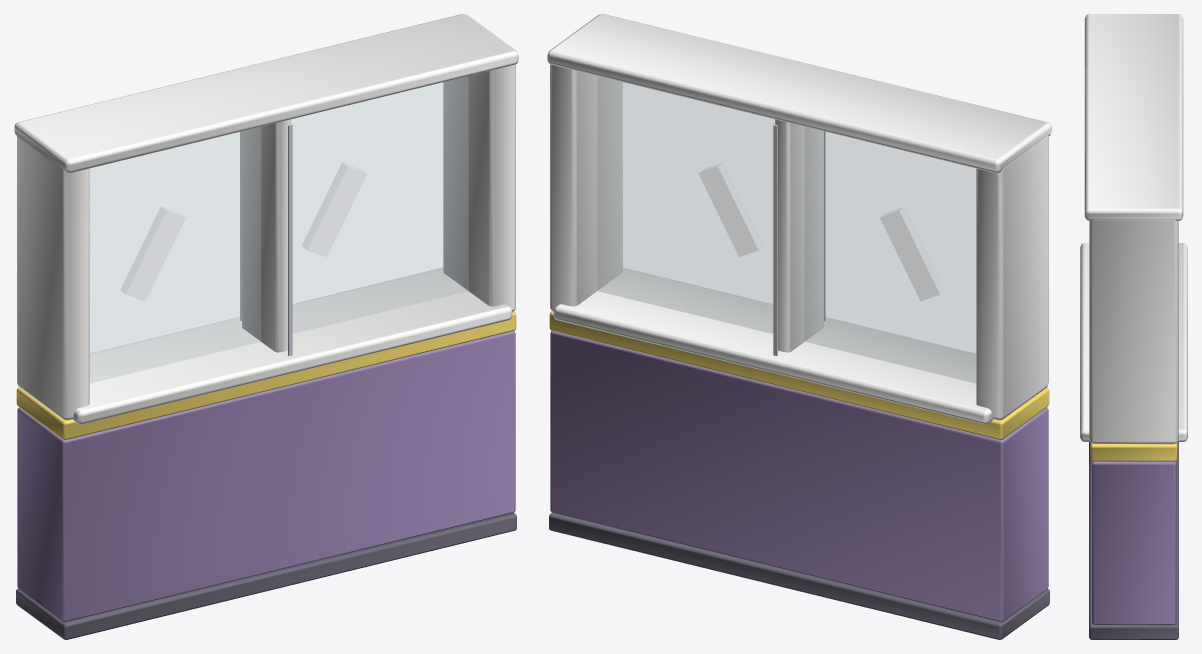
File: pared_ventana.glb
3 views of the same model, side by side, from view 1: azimuth 30°, elevation 25°; view 2: azimuth 150°, elevation 25°; view 3: azimuth 270°, elevation 25° (orthographic). The views are drawn at different scales.
Visible parts, largest first — view 1: bajo_zocalo, vidrio, dintel, alfeizar, jamba-1, jamba1, parteluz, bajo_rodapie, bajo_franja, brillo-1, brillo1, bajo_junta1-1; view 2: bajo_zocalo, vidrio, dintel, alfeizar, jamba-1, jamba1, parteluz, bajo_rodapie, bajo_franja, brillo-1, brillo1, bajo_junta11; view 3: dintel, jamba1, bajo_zocalo, alfeizar, bajo_rodapie, bajo_franja.
Part boxes in pixels (box(x1,y1,x2,y2)): bajo_zocalo: box(17, 330, 515, 622); vidrio: box(90, 76, 468, 382); dintel: box(14, 14, 518, 172); alfeizar: box(73, 267, 512, 424); jamba-1: box(17, 136, 89, 420); jamba1: box(443, 64, 515, 311); parteluz: box(242, 119, 290, 352); bajo_rodapie: box(16, 513, 516, 639); bajo_franja: box(16, 311, 516, 439); brillo-1: box(120, 207, 185, 301); brillo1: box(302, 162, 366, 256); bajo_junta1-1: box(288, 124, 292, 355); bajo_zocalo: box(550, 330, 1048, 622); vidrio: box(597, 76, 975, 382); dintel: box(547, 14, 1051, 172); alfeizar: box(553, 267, 992, 424); jamba-1: box(976, 136, 1048, 420); jamba1: box(550, 64, 622, 311); parteluz: box(775, 119, 823, 352); bajo_rodapie: box(549, 513, 1049, 639); bajo_franja: box(549, 311, 1049, 439); brillo-1: box(880, 207, 945, 301); brillo1: box(699, 162, 763, 256); bajo_junta11: box(773, 124, 777, 355); dintel: box(1084, 14, 1183, 220); jamba1: box(1089, 219, 1178, 443); bajo_zocalo: box(1092, 461, 1175, 624); alfeizar: box(1080, 243, 1187, 441); bajo_rodapie: box(1089, 442, 1178, 639); bajo_franja: box(1090, 442, 1177, 461).
Bounding box in the file's own units: 1 × 1.01 × 0.23.
